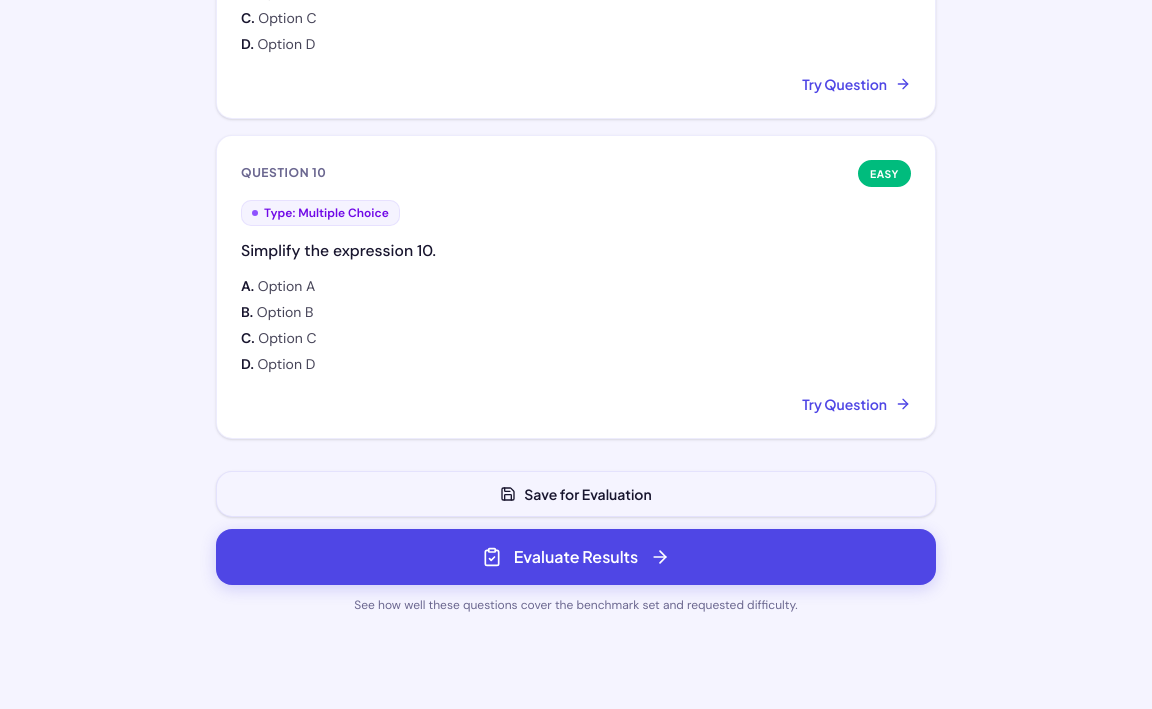
Questions screen › opens the evaluation-method dialog instead of navigating directly when Evaluate Results is clicked
This screenshot has width=1152, height=709.
(page scrolled)
Click the button "Evaluate Results" at (576, 557), box [216,529,936,585]
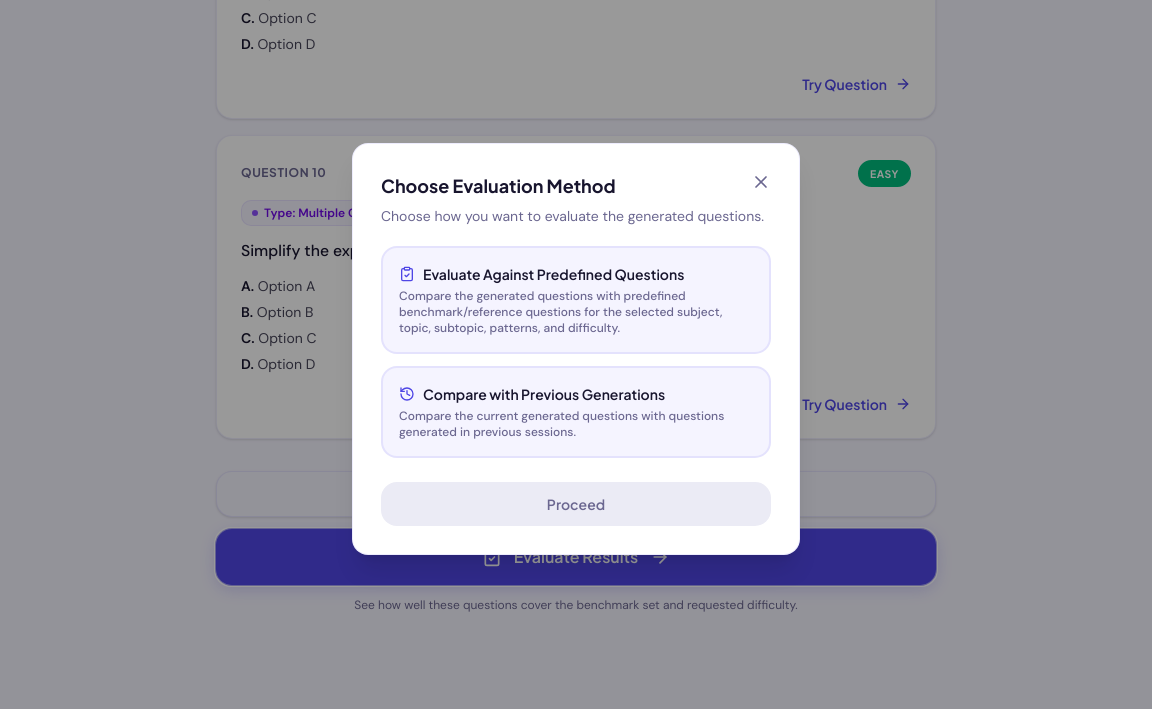
Check: the heading "Choose Evaluation Method" is shown, box [381,172,616,200]
